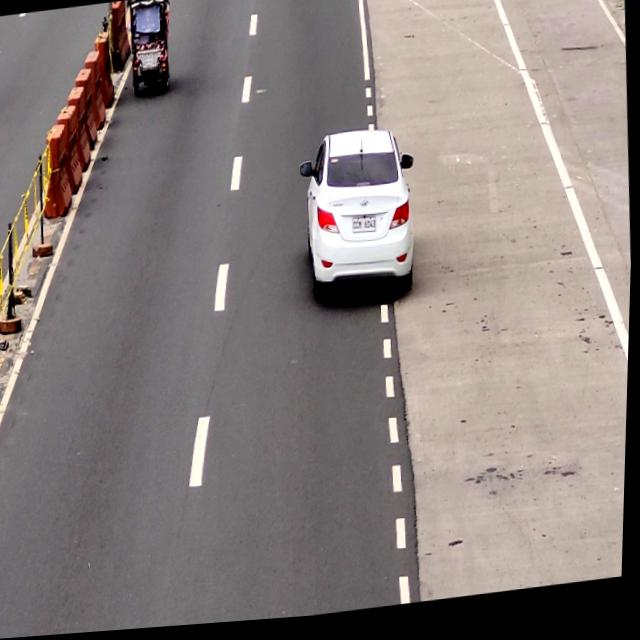Car: (299, 133, 422, 313)
License-Plate: (353, 219, 379, 241)
